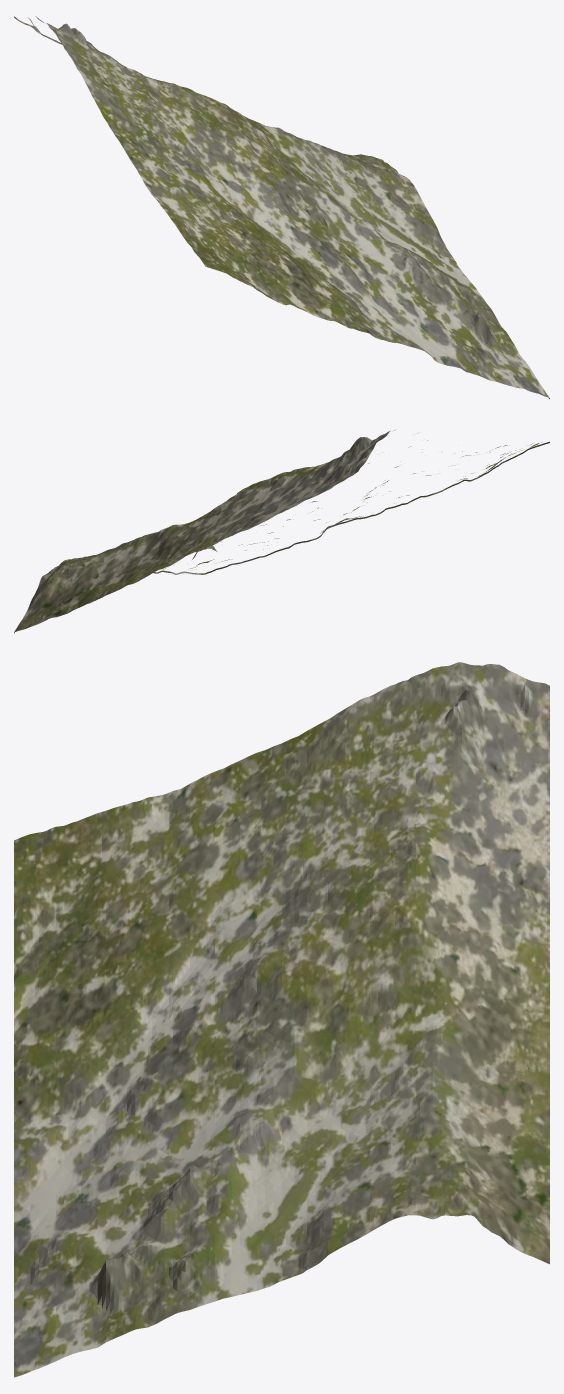
3 views of the same model, one above another, from view 1: azimuth 30°, elevation 25°; view 2: azimuth 150°, elevation 25°; view 3: azimuth 270°, elevation 25° (orthographic). The views are drawn at different scales.
Size of the model in its own units: 250 by 239 by 241.
1 material, 1 textured.
